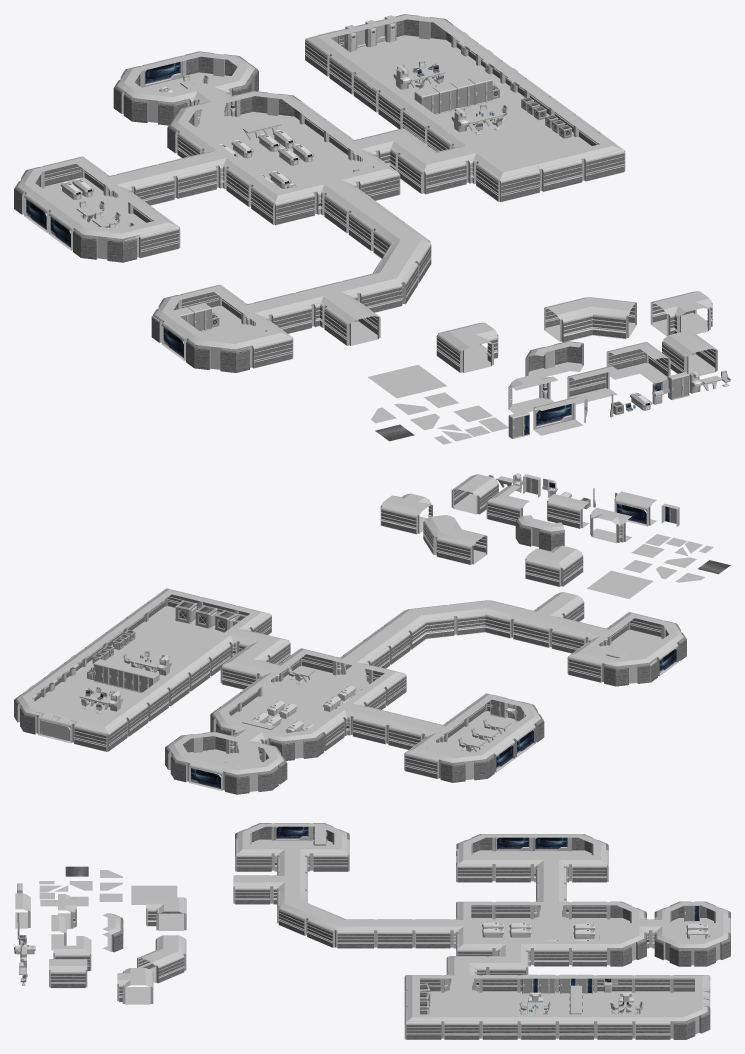
The model's file is Scifi_Scene.fbx.
3 views of the same model, one above another, from view 1: azimuth 30°, elevation 25°; view 2: azimuth 150°, elevation 25°; view 3: azimuth 270°, elevation 25° (orthographic). The views are drawn at different scales.
Visible parts, largest first — view 1: HallAngle, HallCorner2, HallAngle2, HallCorner, WallCorner11, WallCorner13, HallT, WallAngle10, WallAngle8, Hall8, HallAngle1, WallCorner (+59 smaller); view 2: HallAngle, HallAngle2, HallCorner, HallAngle1, HallT, WallCorner14, WallAngle9, WallAngle1, WallAngle11, HallT1, HallCorner1, Hall (+56 smaller); view 3: HallAngle1, HallAngle, HallAngle2, HallCorner, HallT, Hall4, Hall8, Hall, WallCorner19, WallCorner18, WallCorner15, WallCorner16 (+55 smaller).
Boxes of the visible parts, x1,y1,x2,y2 form: HallAngle: (544,297,636,341); HallCorner2: (398,145,466,194); HallAngle2: (343,256,418,312); HallCorner: (436,322,498,372); WallCorner11: (251,179,314,225); WallCorner13: (476,156,539,202); HallT: (650,291,712,336); WallAngle10: (186,333,250,372); WallAngle8: (73,222,136,262); Hall8: (324,298,380,345); HallAngle1: (373,221,431,283); WallCorner: (606,341,670,382); HallAngle: (423,515,487,565); HallAngle2: (449,600,525,638); HallCorner: (525,545,583,586); HallAngle1: (384,605,454,649); HallT: (380,493,432,534); WallCorner14: (74,713,127,751); WallAngle9: (440,749,494,782); WallAngle1: (224,761,278,794); WallAngle11: (604,652,657,686); HallT1: (513,607,564,647); HallCorner1: (220,648,271,689); Hall: (451,474,498,514); HallAngle1: (307,910,375,948); HallAngle: (137,935,186,983); HallAngle2: (277,888,325,935); HallCorner: (146,897,186,930); HallT: (117,968,153,1004); Hall4: (375,919,413,948); Hall8: (233,875,271,904); Hall: (49,959,87,988); WallCorner19: (235,836,273,871); WallCorner18: (311,836,349,871); WallCorner15: (404,1004,442,1039); WallCorner16: (570,847,608,882).
Bounding box in the file's own units: 62.04 × 2.84 × 93.82.
